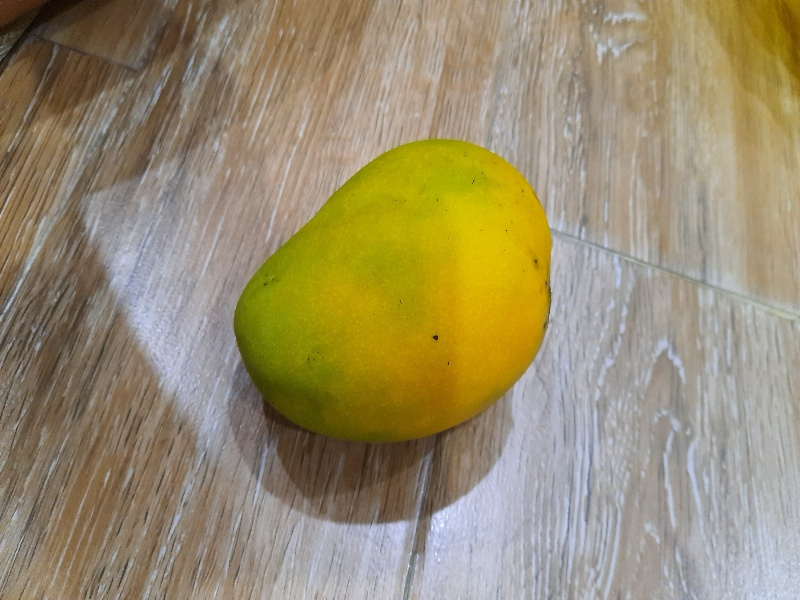fruit: (211, 134, 572, 450)
